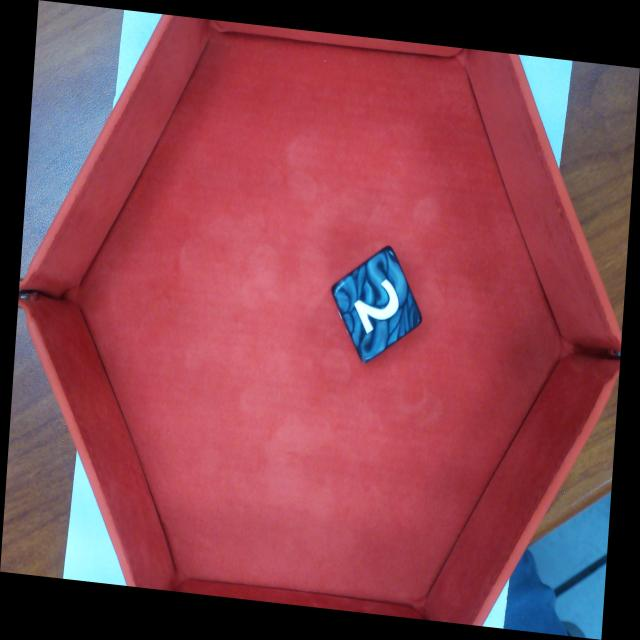dice: (335, 247, 423, 360)
